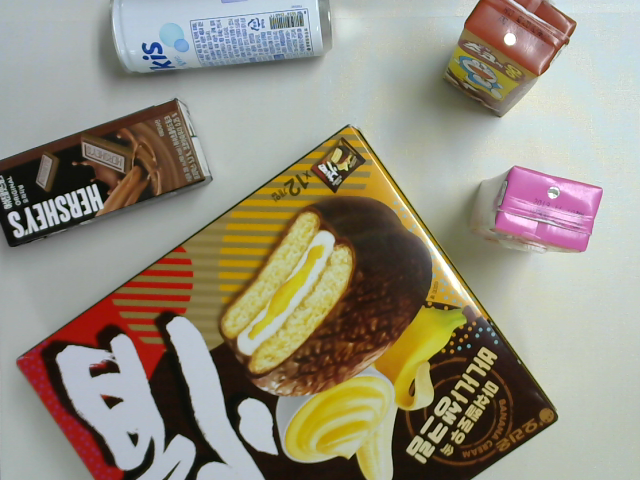Choco_E_Mong: (442, 1, 574, 118)
Choco_Pie_Banana: (14, 125, 559, 480)
Hush_Choco_Drink: (1, 97, 212, 245)
Milkies_250ml: (110, 1, 332, 74)
Strawberry_E_Mong: (470, 166, 602, 251)
